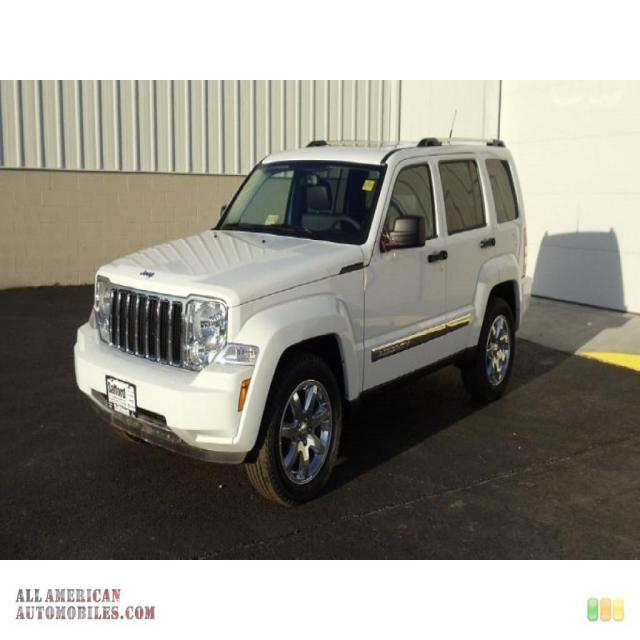car: (63, 125, 551, 505)
